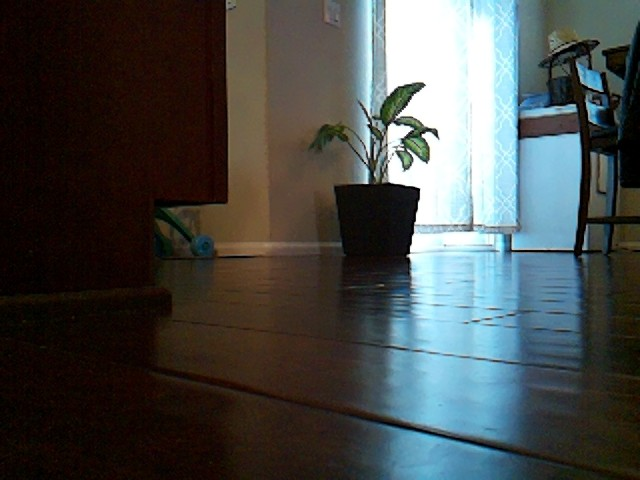Drivable Area: (3, 324, 640, 480), (234, 264, 638, 331)
Obstacle: (1, 0, 232, 320), (310, 77, 443, 257)
